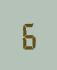six: (19, 20, 36, 49)
